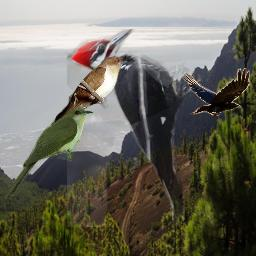Crow: (181, 68, 250, 116)
Cuckoo: (4, 107, 94, 200), (51, 55, 130, 131)
Woodpecker: (67, 29, 202, 227)
